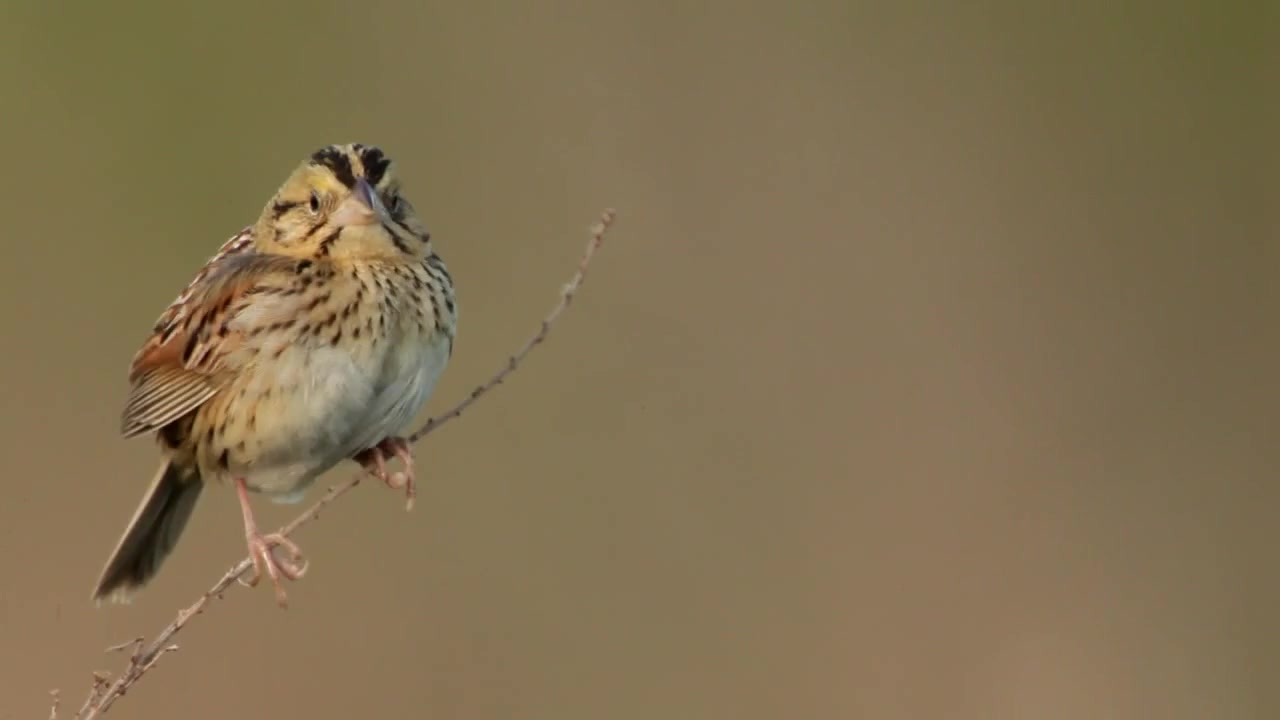bird: (93, 144, 461, 610)
